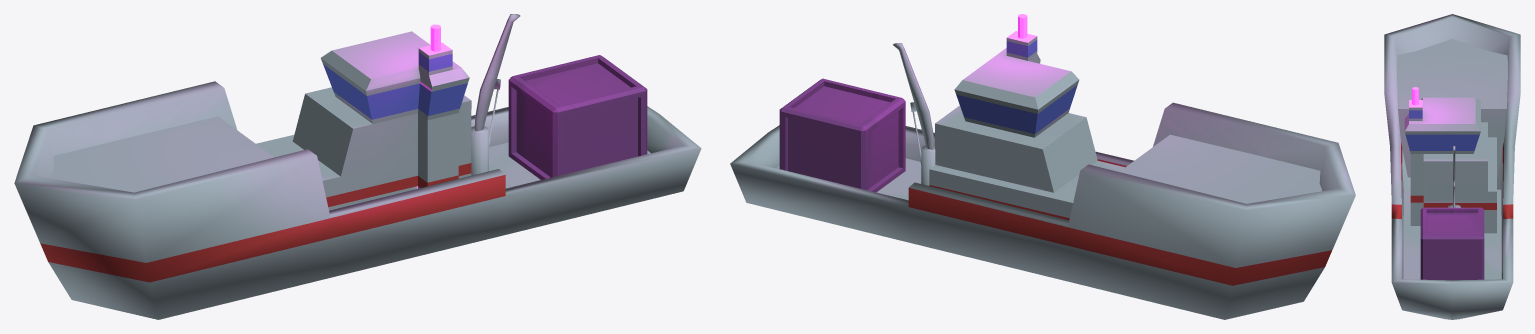
File: ship1.fbx
The picture shows the model from 3 angles, left to right: view 1: azimuth 30°, elevation 25°; view 2: azimuth 150°, elevation 25°; view 3: azimuth 270°, elevation 25°; orthographic projection. The views are drawn at different scales.
Parts seen in each view (by area): view 1: Cube.006; view 2: Cube.006; view 3: Cube.006.
Part boxes in pixels (left/top/right/bottom): Cube.006: left=14, top=14, right=701, bottom=319; Cube.006: left=730, top=14, right=1355, bottom=319; Cube.006: left=1384, top=14, right=1520, bottom=319.
Bounding box in the file's own units: 1704 × 596 × 466.
